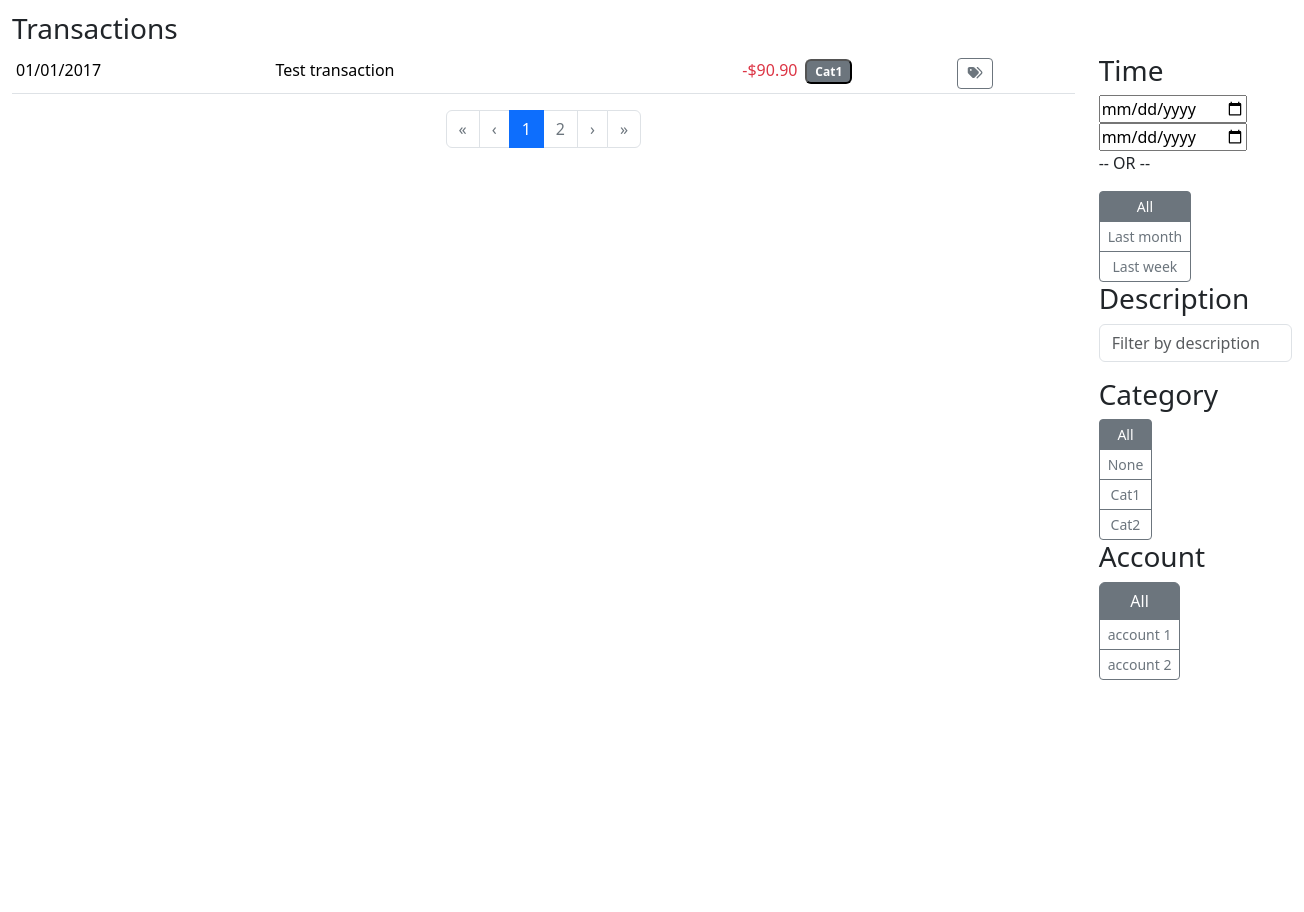
Test case: should not update when same category is selected
Click the button "Cat1" in the row of "01/01/2017" at (829, 72), box [806,59,852,84]
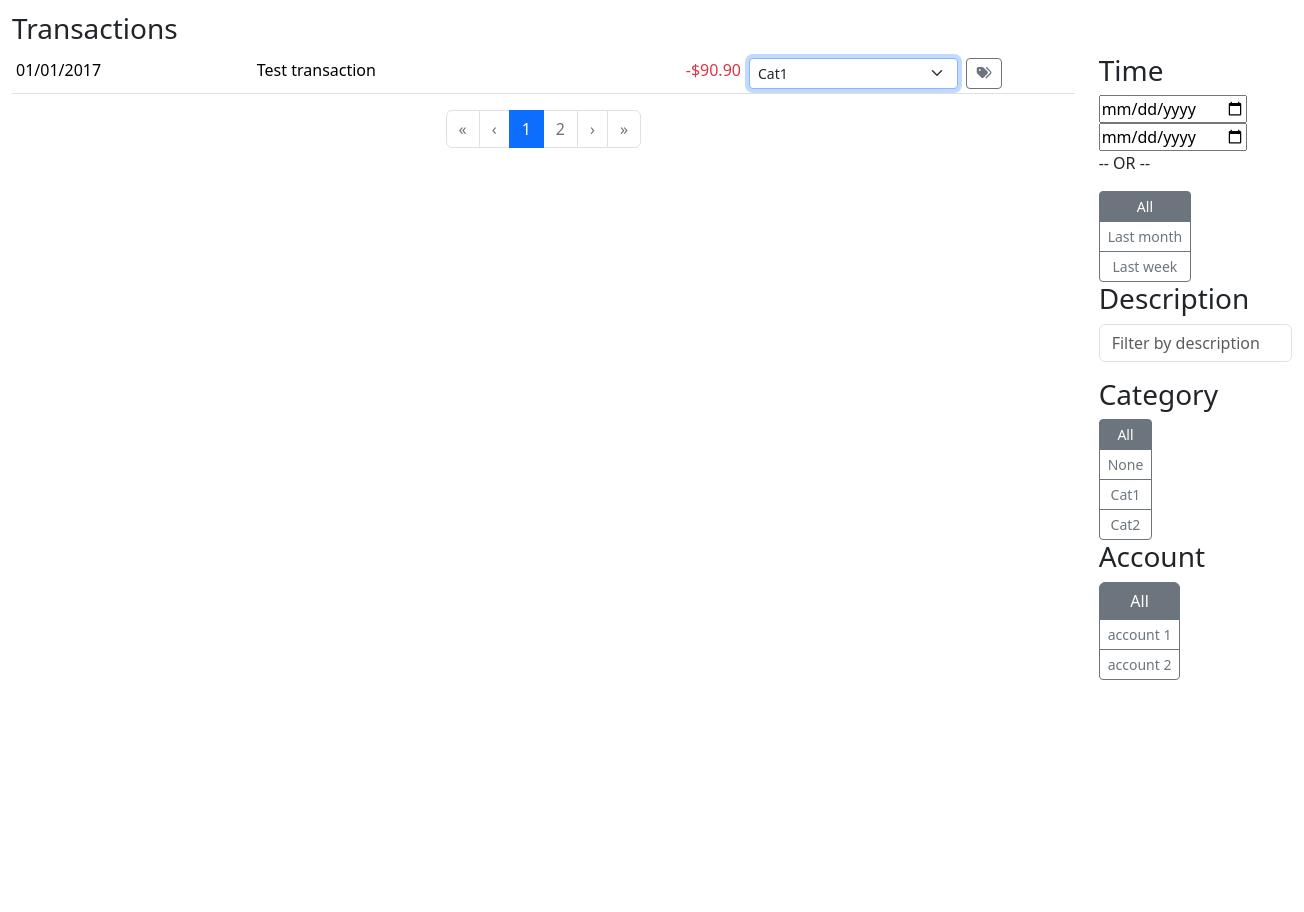
# Select the same category (Cat1 has id "0")
Select "Cat1" in the dropdown at (854, 73), box [749,58,958,89]
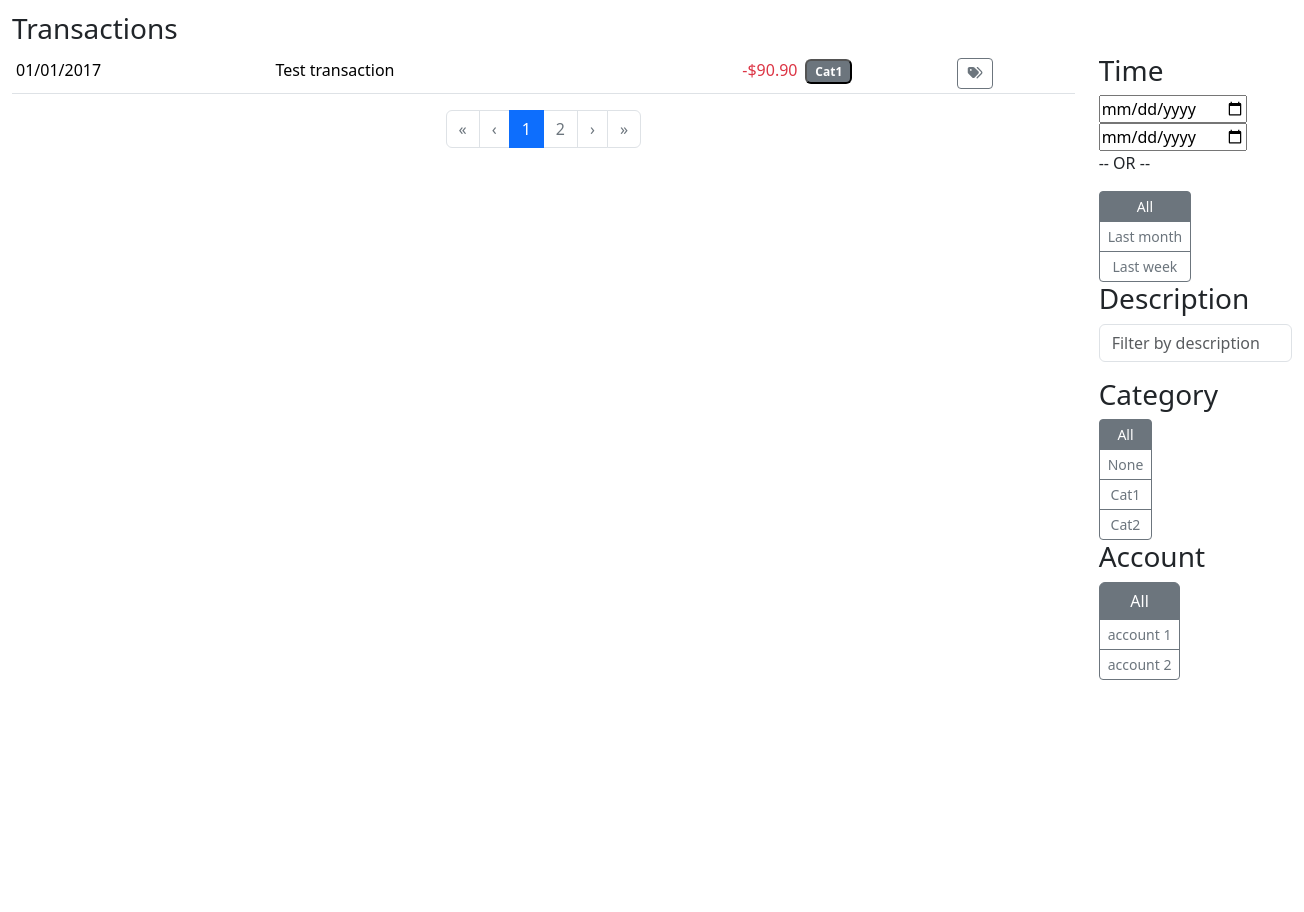
Result: the dropdown is gone
